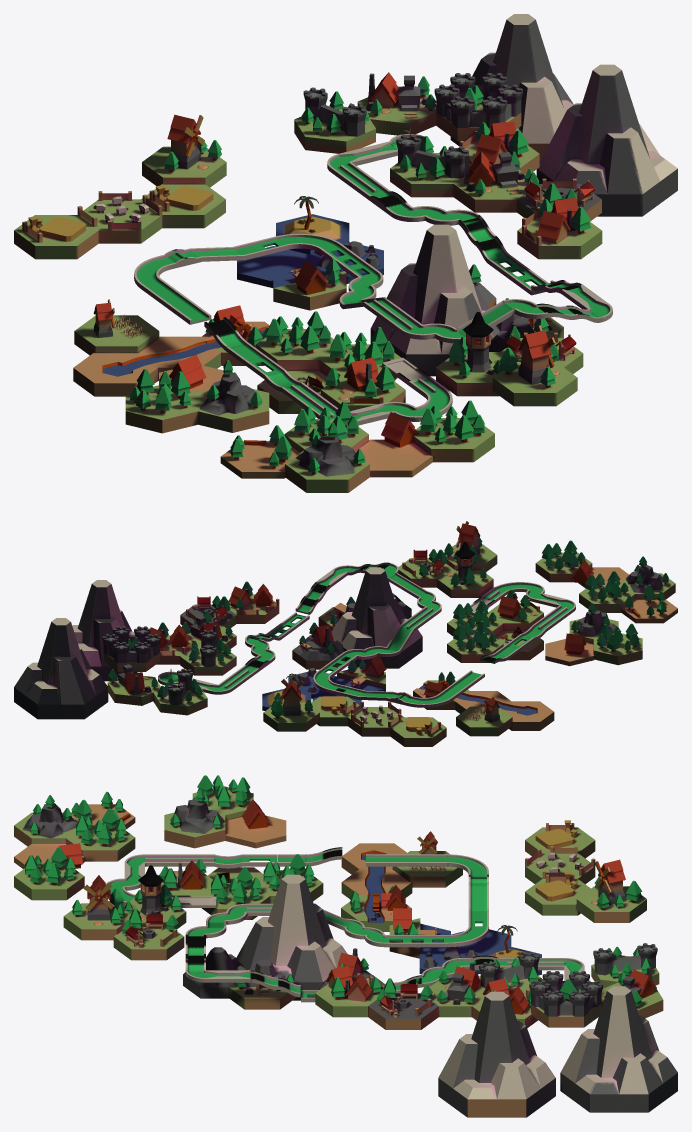
Rendered from course.fbx.
The picture shows the model from 3 angles, top to bottom: view 1: azimuth 30°, elevation 25°; view 2: azimuth 150°, elevation 25°; view 3: azimuth 270°, elevation 25°; orthographic projection. The views are drawn at different scales.
Visible parts, largest first — view 1: course_backup_Baked; view 2: course_backup_Baked; view 3: course_backup_Baked.
Part boxes in pixels (x1,y1,x2,y2): course_backup_Baked: (14,14,677,492); course_backup_Baked: (14,521,677,746); course_backup_Baked: (14,775,677,1117).
Bounding box in the file's own units: 32988 × 5432 × 32619.
Materials: 1 (1 with a texture image).
